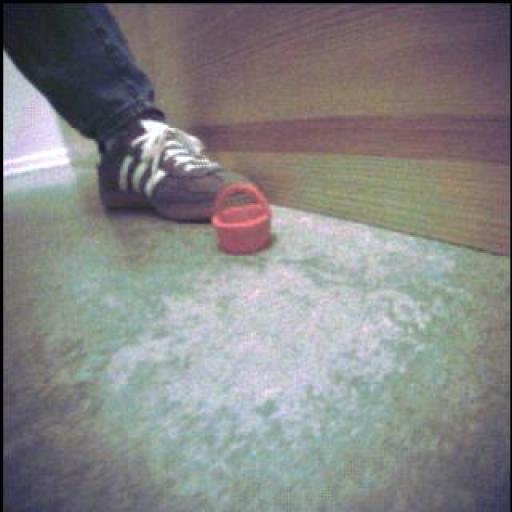Bucket: (213, 185, 272, 255)
